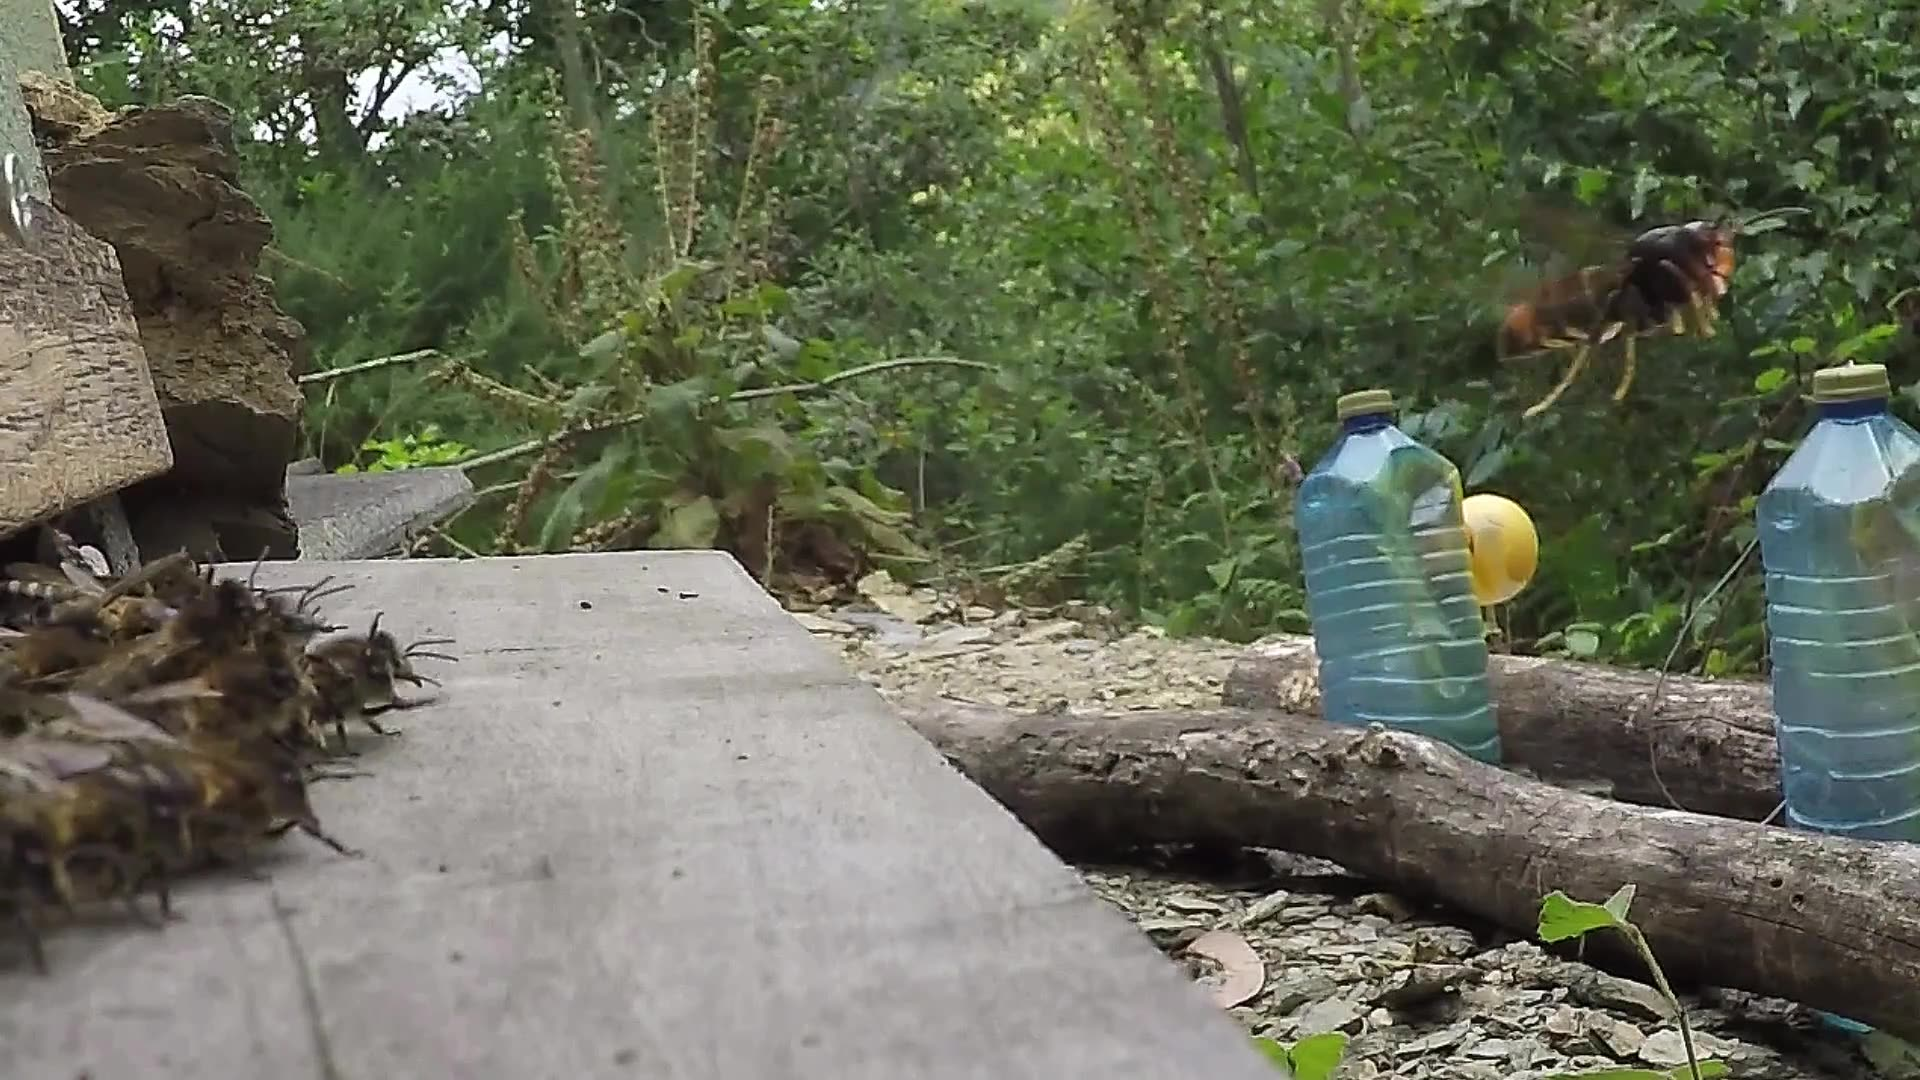bee: (1, 543, 443, 956)
hornet: (1480, 200, 1759, 404)
